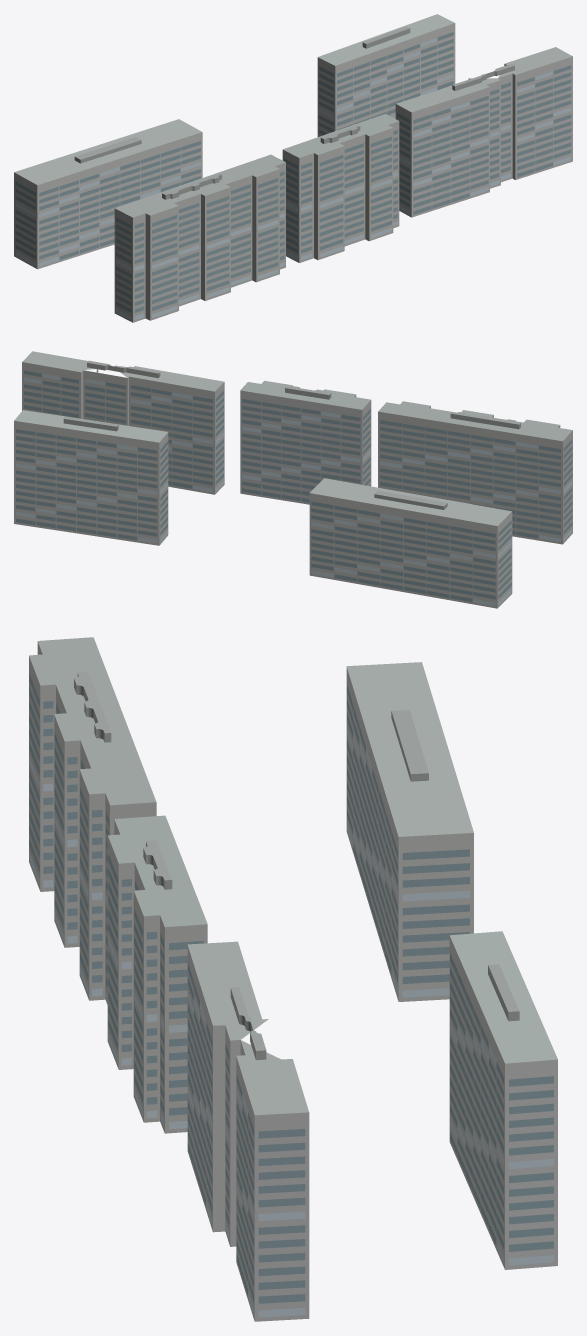
The model's file is apt-a13276417.glb.
The picture shows the model from 3 angles, top to bottom: view 1: azimuth 30°, elevation 25°; view 2: azimuth 150°, elevation 25°; view 3: azimuth 270°, elevation 25°; orthographic projection. The views are drawn at different scales.
Visible parts, largest first — view 1: apt-a13276417; view 2: apt-a13276417; view 3: apt-a13276417.
Part boxes in pixels (x1,y1,x2,y2): apt-a13276417: [14, 14, 572, 322]; apt-a13276417: [14, 351, 572, 608]; apt-a13276417: [29, 637, 557, 1321].
Bounding box in the file's own units: 235 × 47.81 × 106.
